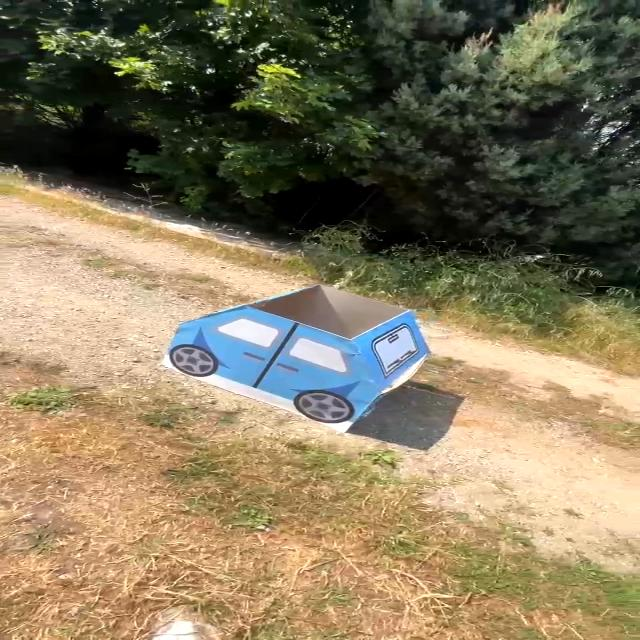blue_car: (130, 274, 454, 452)
